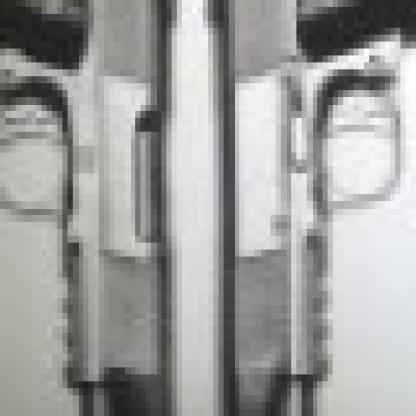gun: (0, 0, 203, 409), (208, 0, 411, 409)
